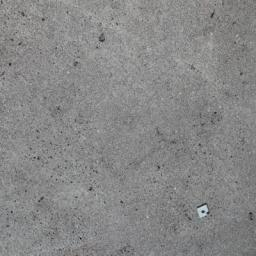FOD: (196, 201, 214, 223)
